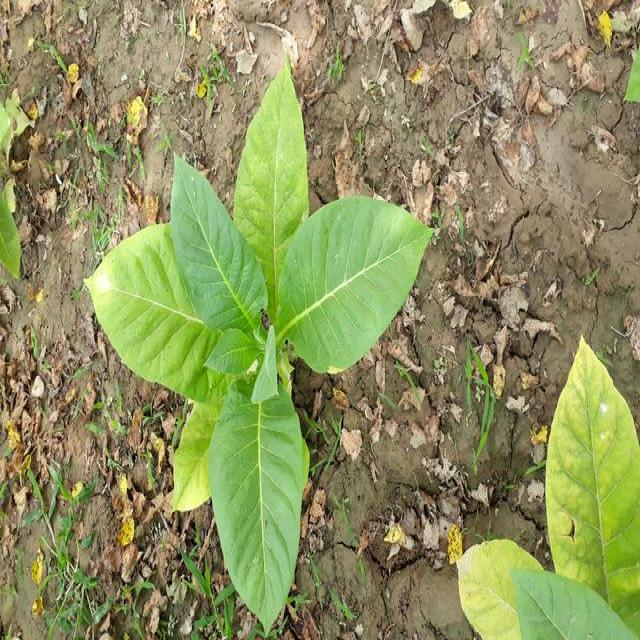crop: (94, 74, 419, 620), (457, 340, 640, 640)
